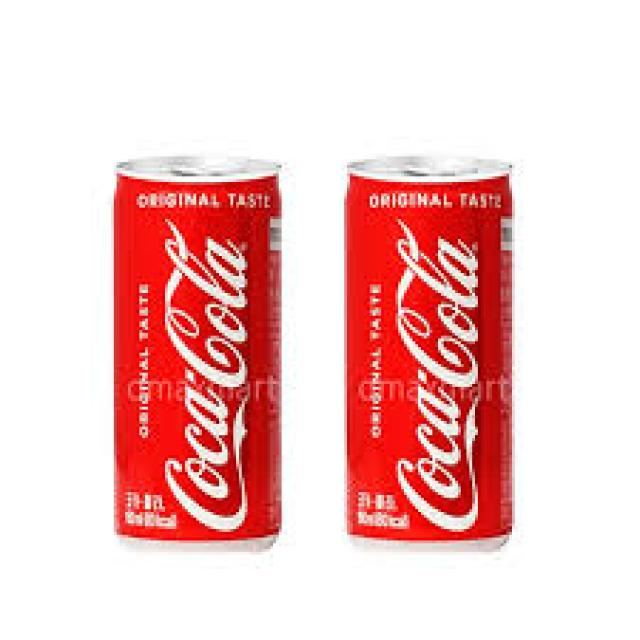Coca-Cola: (105, 147, 292, 560), (336, 148, 522, 560)
